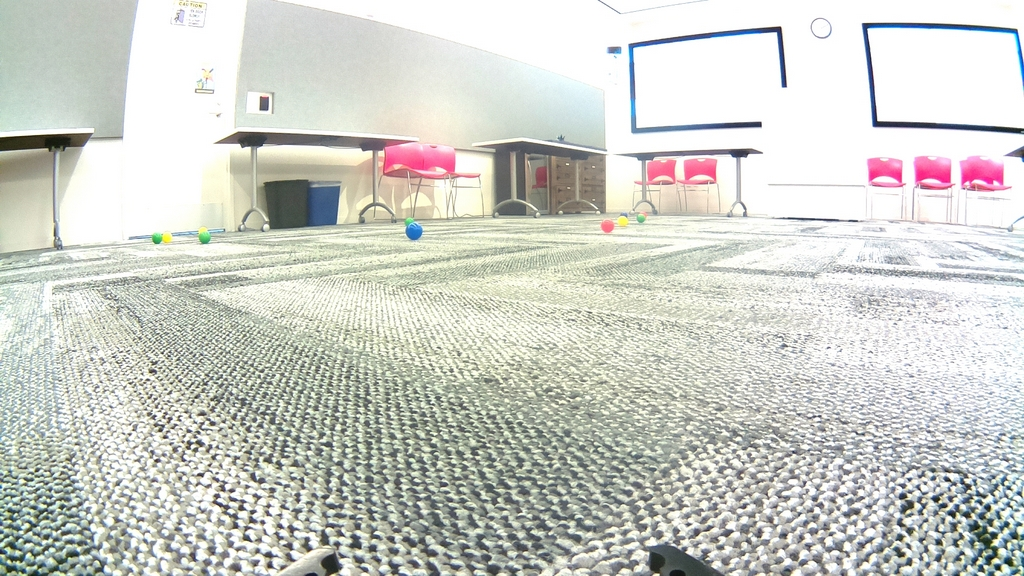ball: (408, 224, 422, 239)
